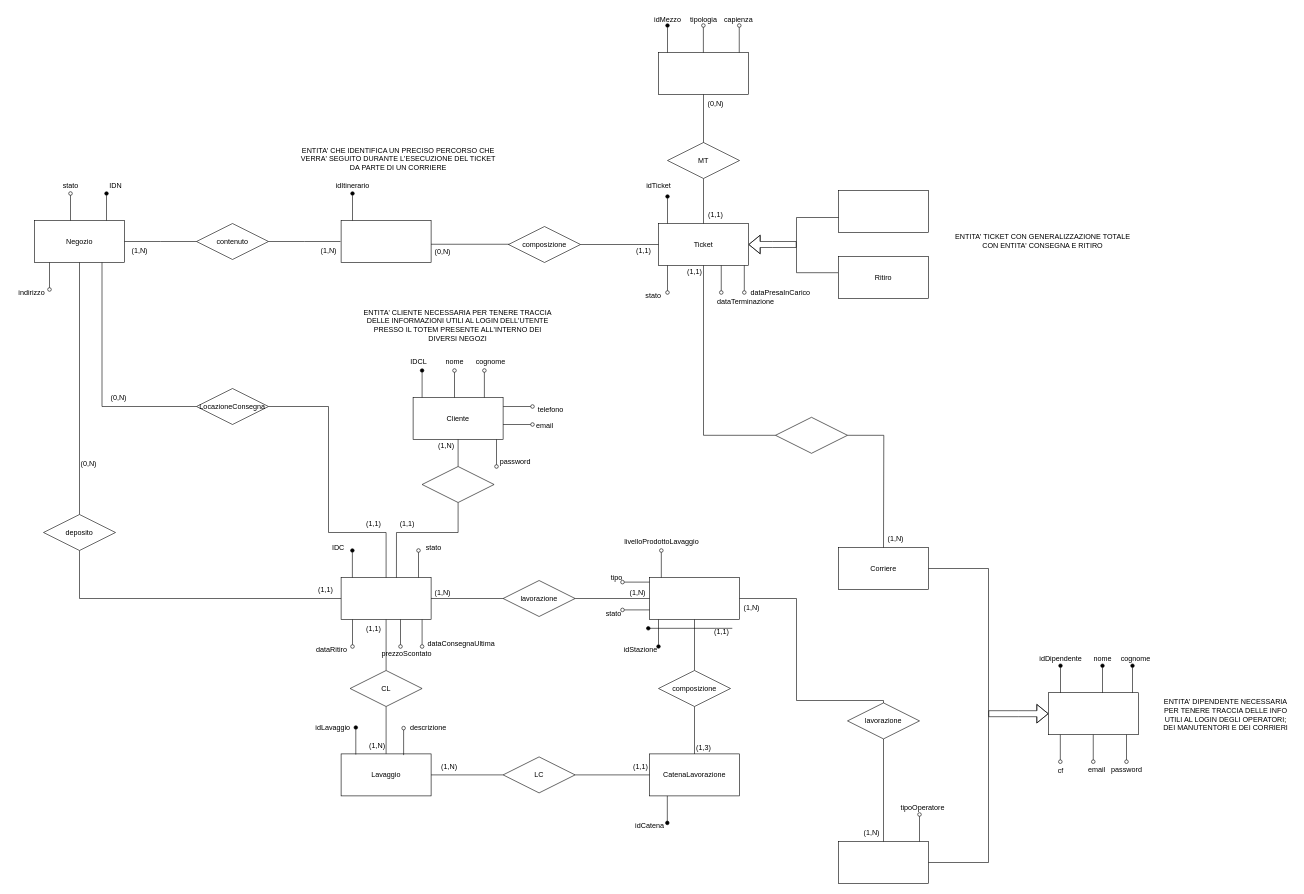
Some shapes in this 1304 by 894 pixel diagram are drawn without their labels. The centre of each missing label's shape, as x and y in pixels:
"Capo" belongs at point (385, 598).
"Consegna" belongs at point (883, 211).
"Dipendente" belongs at point (1093, 713).
"esecuzione" belongs at point (811, 435).
"Itinerario" belongs at point (385, 241).
"Mezzo" belongs at point (703, 73).
"Operatore" belongs at point (883, 862).
"Ordine" belongs at point (458, 484).
"Stazionelavoro" belongs at point (694, 598).
